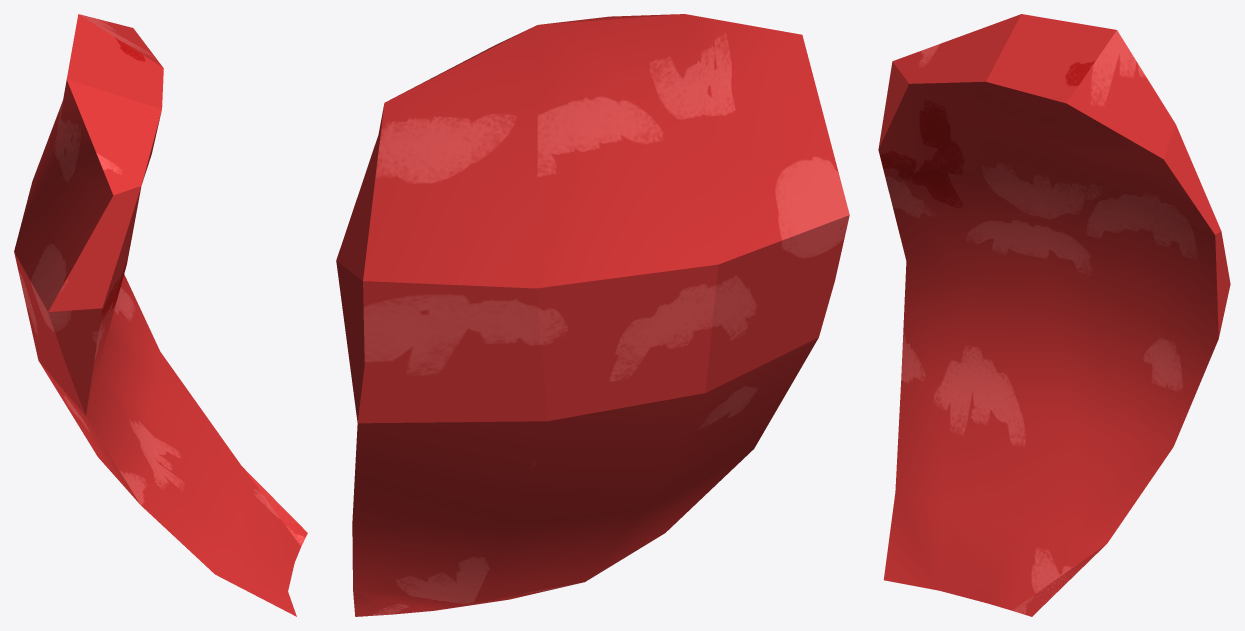
The model's file is petal.fbx.
The picture shows the model from 3 angles, left to right: view 1: azimuth 30°, elevation 25°; view 2: azimuth 150°, elevation 25°; view 3: azimuth 270°, elevation 25°; orthographic projection. The views are drawn at different scales.
Parts seen in each view (by area): view 1: pasted__Infection_2; view 2: pasted__Infection_2; view 3: pasted__Infection_2.
Boxes of the visible parts, x1=… form: pasted__Infection_2: x1=14, y1=14, x2=307, y2=616; pasted__Infection_2: x1=336, y1=14, x2=849, y2=616; pasted__Infection_2: x1=878, y1=14, x2=1230, y2=616.
Bounding box in the file's own units: 0.722 × 1.16 × 0.7302.
